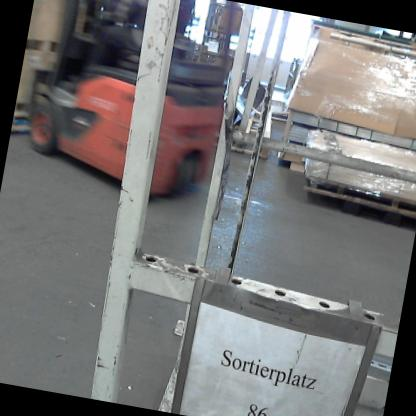forklift: (12, 0, 259, 224)
pallet: (214, 91, 287, 168)
stillage: (190, 45, 258, 96), (200, 0, 261, 52)
